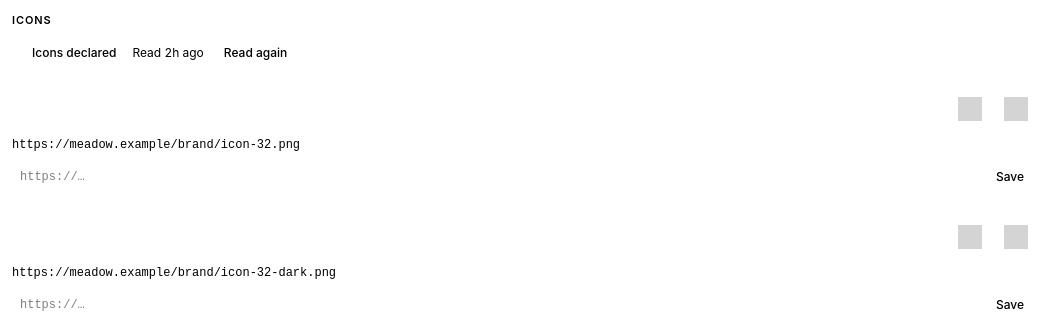
Scenario: the Identity card's icons › reads the page again through the ingest's own read, and shows the new read
Step 1. Click the button "Read again" → (256, 52), box [212,36,299,68]
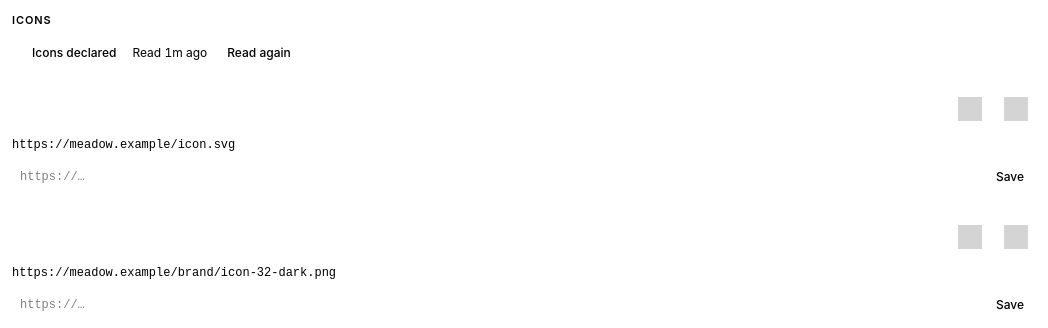
Result: the element showing "Icons declared Read 1m ago Read again" is shown at [32,36,303,68]
